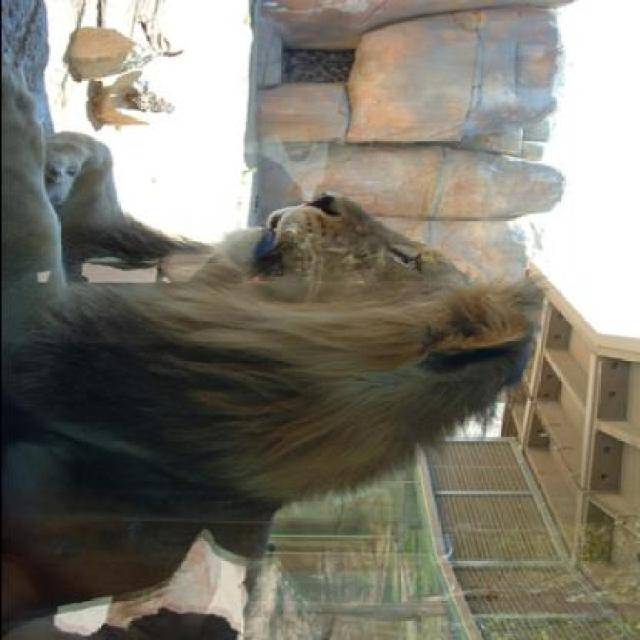Lion: (18, 131, 571, 614)
